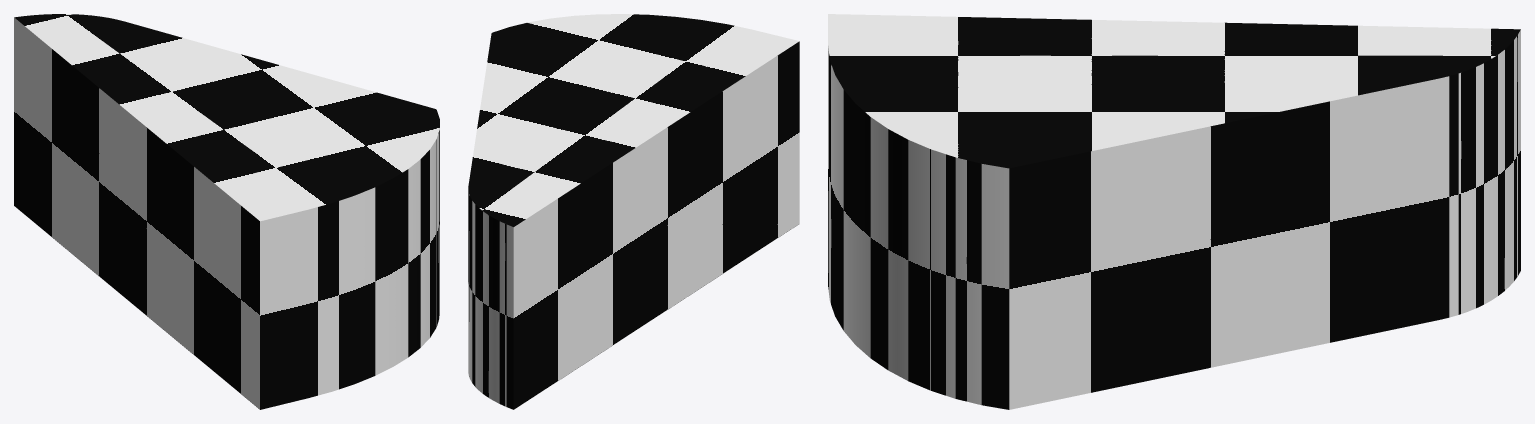
Rendered from Flipper_3.FBX.
3 views of the same model, side by side, from view 1: azimuth 30°, elevation 25°; view 2: azimuth 150°, elevation 25°; view 3: azimuth 270°, elevation 25° (orthographic). The views are drawn at different scales.
Parts seen in each view (by area): view 1: Layer0_001; view 2: Layer0_001; view 3: Layer0_001.
Part boxes in pixels (bbox=[...]): Layer0_001: bbox=[14, 14, 439, 409]; Layer0_001: bbox=[468, 14, 799, 409]; Layer0_001: bbox=[828, 14, 1520, 409].
Size of the model in its own units: 69.69 by 50.8 by 132.
1 material, 1 textured.
